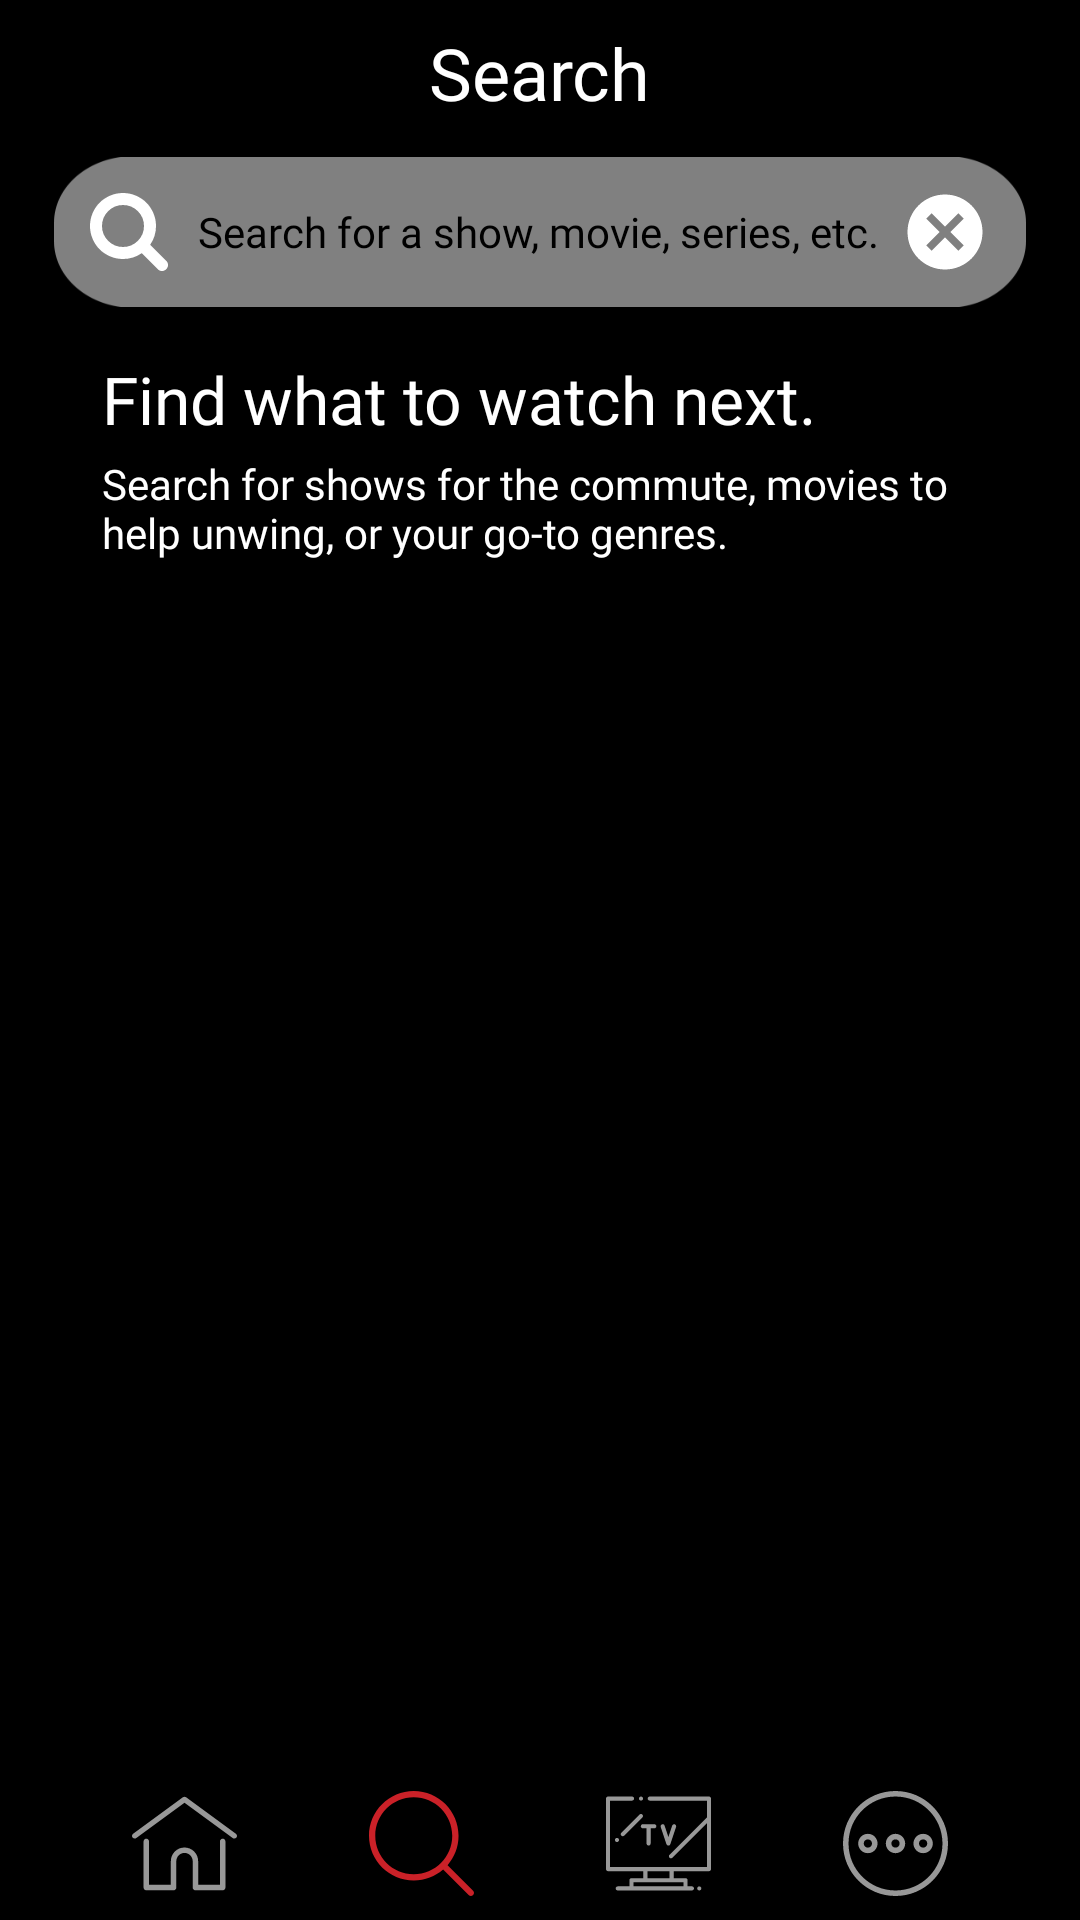

Locate icon controls on the screen. Image size 1080x1920, boxes as (x1, y1, x2, y2).
btm nav liv dull: (606, 1796, 711, 1891)
btm nav more dull: (843, 1791, 948, 1896)
btm nav search: (369, 1791, 474, 1896)
cancel: (907, 194, 983, 270)
home btm nav dull: (132, 1796, 237, 1891)
